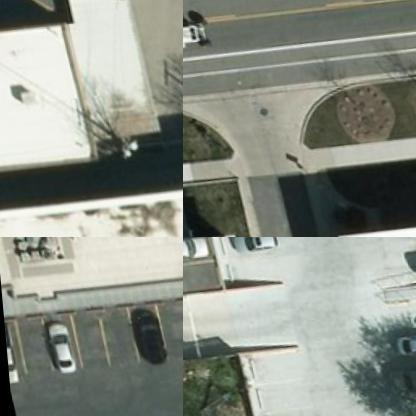car: (36, 318, 72, 372), (124, 308, 159, 362), (380, 361, 415, 397), (381, 319, 415, 355), (223, 237, 278, 253), (183, 237, 209, 262)
